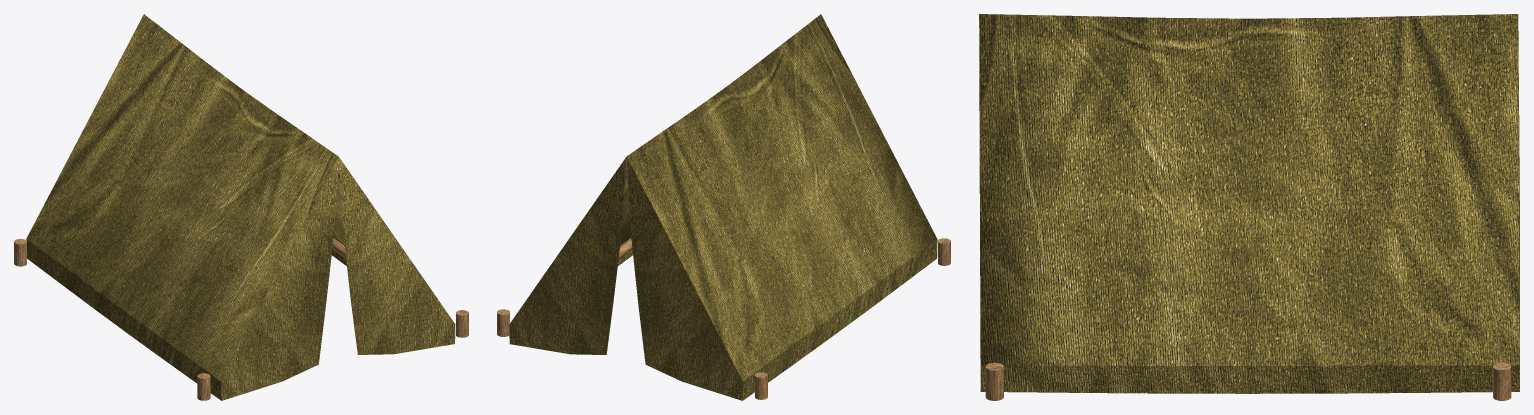
Rendered from medieval_tent.glb.
3 views of the same model, side by side, from view 1: azimuth 30°, elevation 25°; view 2: azimuth 150°, elevation 25°; view 3: azimuth 270°, elevation 25° (orthographic). The views are drawn at different scales.
Parts seen in each view (by area): view 1: ClothClosed, PolesClosed; view 2: ClothClosed, PolesClosed; view 3: ClothClosed, PolesClosed.
Boxes of the visible parts, bbox=[...] form: ClothClosed: bbox=[26, 14, 455, 400]; PolesClosed: bbox=[14, 162, 468, 400]; ClothClosed: bbox=[509, 14, 937, 400]; PolesClosed: bbox=[497, 161, 950, 399]; ClothClosed: bbox=[979, 14, 1519, 393]; PolesClosed: bbox=[985, 362, 1511, 400].
Size of the model in its own units: 1.34 by 1.03 by 1.68.
2 materials, 2 textured.
